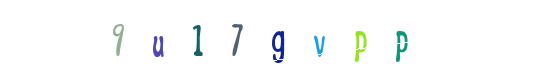1: (218, 0, 298, 80)
7: (235, 0, 315, 80)
9: (156, 0, 236, 80)
G: (239, 0, 319, 80)
P: (279, 0, 359, 80), (319, 0, 399, 80)
U: (162, 0, 242, 80)
V: (273, 0, 353, 80)
